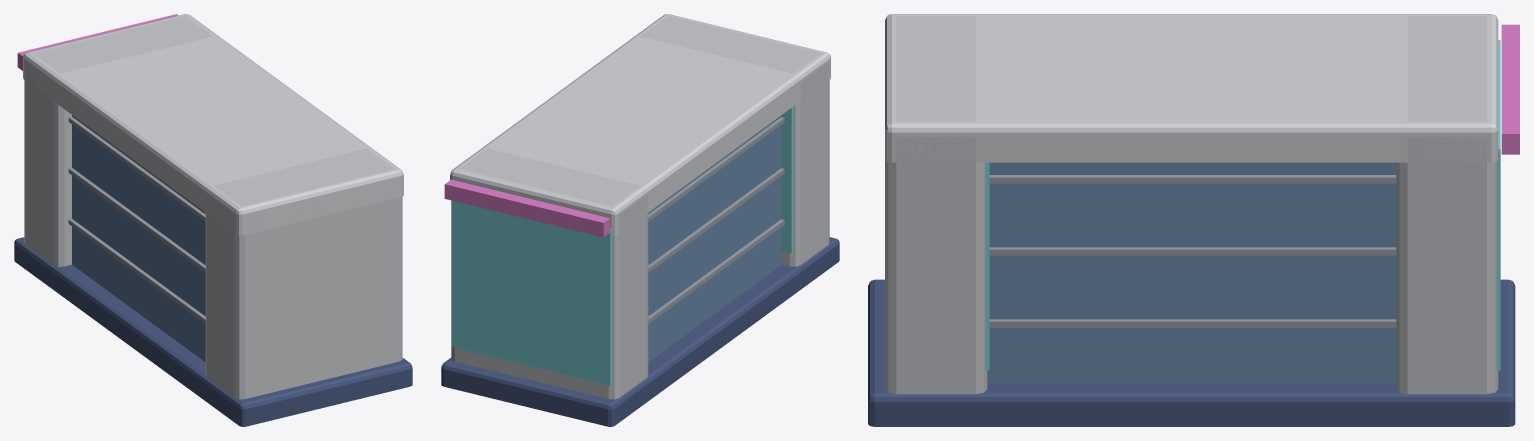
File: rn2-orbital-amb.glb
The picture shows the model from 3 angles, left to right: view 1: azimuth 30°, elevation 25°; view 2: azimuth 150°, elevation 25°; view 3: azimuth 270°, elevation 25°; orthographic projection. The views are drawn at different scales.
Visible parts, largest first — view 1: rn2_orbital_amb_body, rn2_orbital_amb_glow; view 2: rn2_orbital_amb_body, rn2_orbital_amb_glow; view 3: rn2_orbital_amb_body, rn2_orbital_amb_glow.
Part boxes in pixels (x1,y1,x2,y2): rn2_orbital_amb_body: (14,14,412,426); rn2_orbital_amb_glow: (17,14,178,70); rn2_orbital_amb_body: (441,14,839,426); rn2_orbital_amb_glow: (444,107,792,385); rn2_orbital_amb_body: (868,14,1515,426); rn2_orbital_amb_glow: (985,24,1519,370).
Size of the model in its own units: 2.48 by 2.9 by 5.74.
